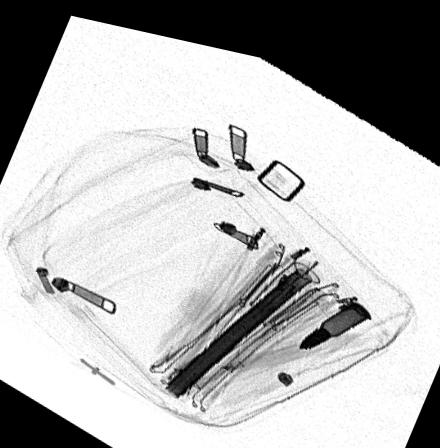Bullet: (298, 284, 371, 337)
